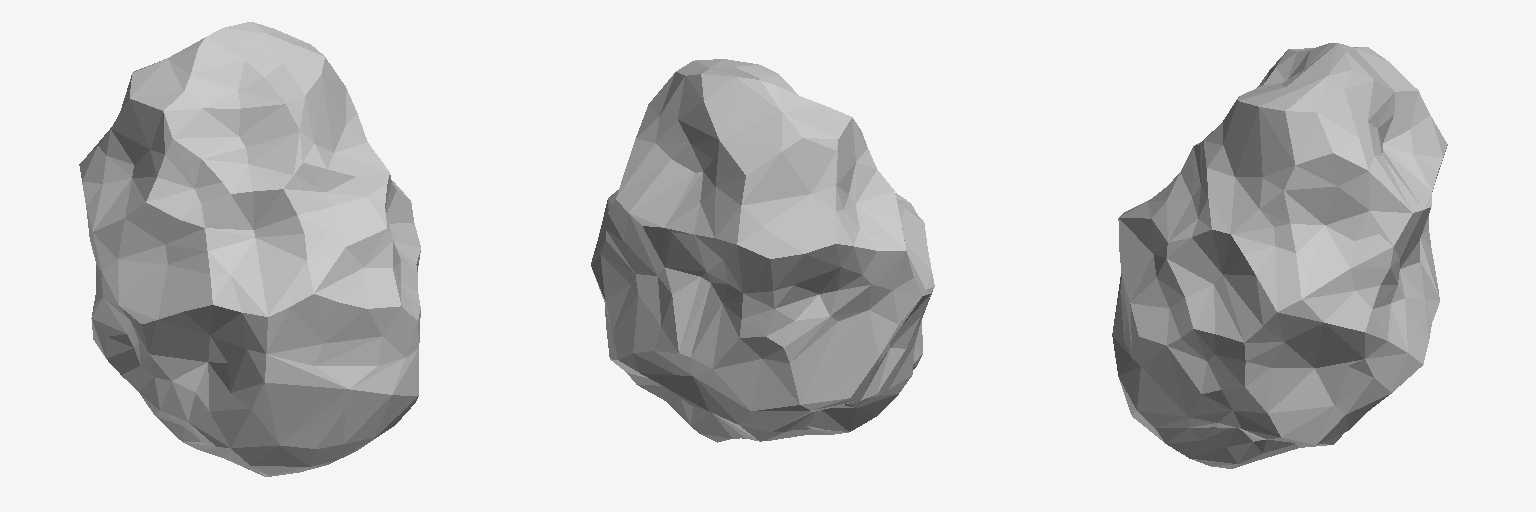
Rendered from rock_001.obj.
The picture shows the model from 3 angles: view 1: azimuth 30°, elevation 25°; view 2: azimuth 150°, elevation 25°; view 3: azimuth 270°, elevation 25°; orthographic projection.
Visible parts, largest first — view 1: rock.001_rock.013; view 2: rock.001_rock.013; view 3: rock.001_rock.013.
Boxes of the visible parts, x1,y1,x2,y2 form: rock.001_rock.013: [79, 22, 420, 476]; rock.001_rock.013: [591, 59, 934, 442]; rock.001_rock.013: [1112, 43, 1447, 468].
Size of the model in its own units: 3.64 by 4.61 by 3.44.